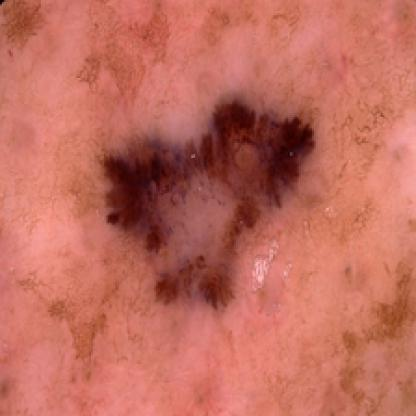malignant: (100, 84, 325, 308)
